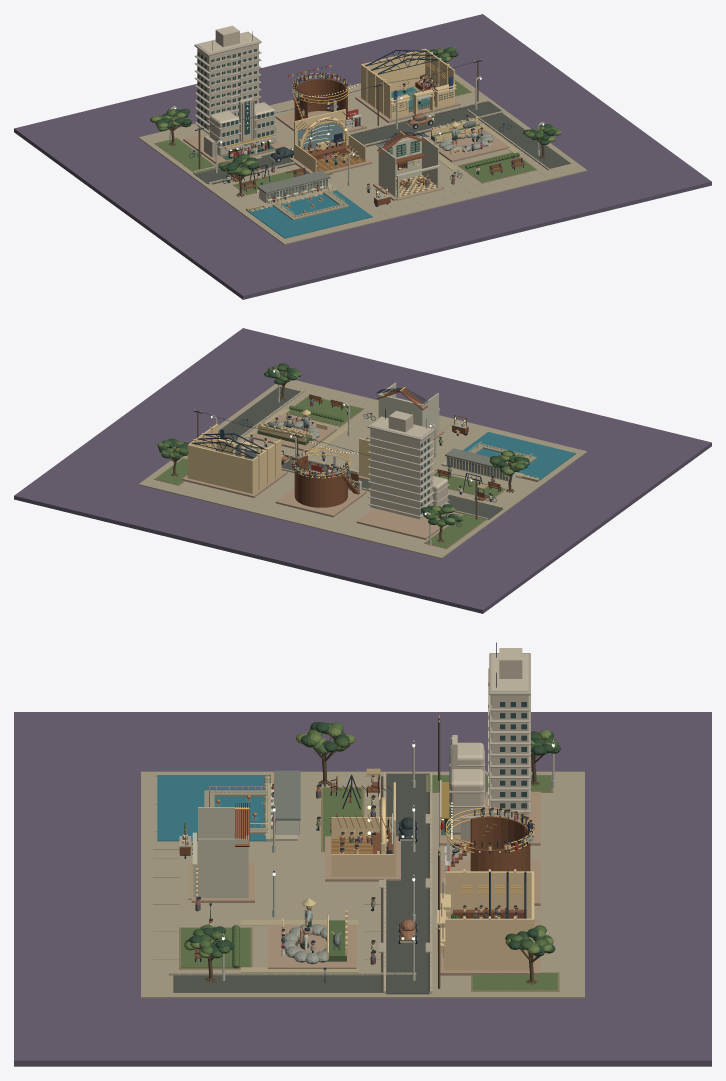
The model's file is pastimes.glb.
3 views of the same model, one above another, from view 1: azimuth 30°, elevation 25°; view 2: azimuth 150°, elevation 25°; view 3: azimuth 270°, elevation 25° (orthographic). The views are drawn at different scales.
Visible parts, largest first — view 1: Street scenery #685e70, Street scenery #aa9f87, attraction_cathay #c7bca6, attraction_badminton #e5c998, Street scenery #555950, Street scenery #397c86, Street scenery #64754b, attraction_rediffusion #c8c4ac, attraction_cathay #b5ad9b, attraction_cathay #3b5554, attraction_wall-of-death #805338, attraction_bunga-tanjong #e5c998 (+17 smaller); view 2: Street scenery #685e70, Street scenery #aa9f87, attraction_cathay #c7bca6, attraction_badminton #e5c998, Street scenery #64754b, Street scenery #555950, attraction_wall-of-death #805338, Street scenery #397c86, attraction_cathay #b5ad9b, attraction_rediffusion #c8c4ac, attraction_cathay #ae967d, Street scenery #344d36 (+14 smaller); view 3: Street scenery #685e70, Street scenery #aa9f87, Street scenery #555950, attraction_badminton #e5c998, attraction_cathay #c7bca6, Street scenery #64754b, Street scenery #397c86, attraction_rediffusion #c8c4ac, attraction_bunga-tanjong #e5c998, attraction_wall-of-death #805338, attraction_cathay #b5ad9b, attraction_tiger-balm #ae967d (+18 smaller).
Boxes of the visible parts, x1,y1,x2,y2 form: Street scenery #685e70: (14, 14, 711, 299); Street scenery #aa9f87: (138, 73, 587, 244); attraction_cathay #c7bca6: (197, 25, 275, 156); attraction_badminton #e5c998: (361, 48, 456, 119); Street scenery #555950: (193, 101, 570, 183); Street scenery #397c86: (247, 190, 372, 238); Street scenery #64754b: (156, 80, 535, 194); attraction_rediffusion #c8c4ac: (378, 135, 439, 197); attraction_cathay #b5ad9b: (194, 31, 276, 157); attraction_cathay #3b5554: (197, 49, 273, 146); attraction_wall-of-death #805338: (287, 64, 354, 120); attraction_bunga-tanjong #e5c998: (294, 109, 366, 172); Street scenery #685e70: (14, 328, 711, 613); Street scenery #aa9f87: (138, 380, 587, 558); attraction_cathay #c7bca6: (370, 410, 449, 519); attraction_badminton #e5c998: (187, 423, 283, 493); Street scenery #64754b: (156, 396, 504, 547); Street scenery #555950: (218, 386, 502, 519); attraction_wall-of-death #805338: (287, 455, 359, 507); Street scenery #397c86: (463, 432, 576, 480); attraction_cathay #b5ad9b: (367, 416, 449, 517); attraction_rediffusion #c8c4ac: (378, 382, 439, 436); attraction_cathay #ae967d: (356, 508, 458, 539); Street scenery #344d36: (158, 363, 529, 524); Street scenery #685e70: (14, 712, 711, 1066); Street scenery #aa9f87: (141, 771, 584, 998); Street scenery #555950: (173, 773, 429, 994); attraction_badminton #e5c998: (437, 869, 534, 970); attraction_cathay #c7bca6: (440, 648, 528, 834); Street scenery #64754b: (181, 775, 557, 990); Street scenery #397c86: (157, 775, 271, 841); attraction_rediffusion #c8c4ac: (192, 807, 248, 897); attraction_bunga-tanjong #e5c998: (331, 782, 395, 876); attraction_wall-of-death #805338: (451, 799, 530, 871); attraction_cathay #b5ad9b: (449, 653, 530, 841); attraction_tiger-balm #ae967d: (267, 924, 356, 968).
Size of the model in its own units: 65 by 15.1 by 55.
112 materials, 1 textured.
